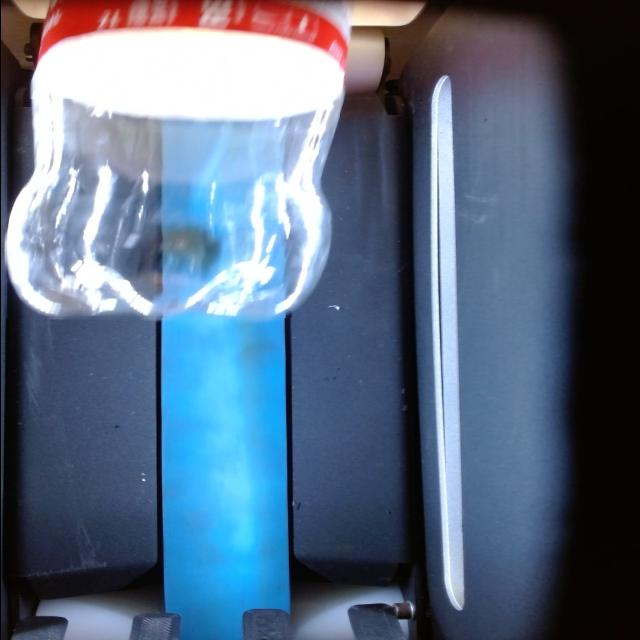bottom: (5, 100, 338, 318)
label: (33, 0, 347, 121)
